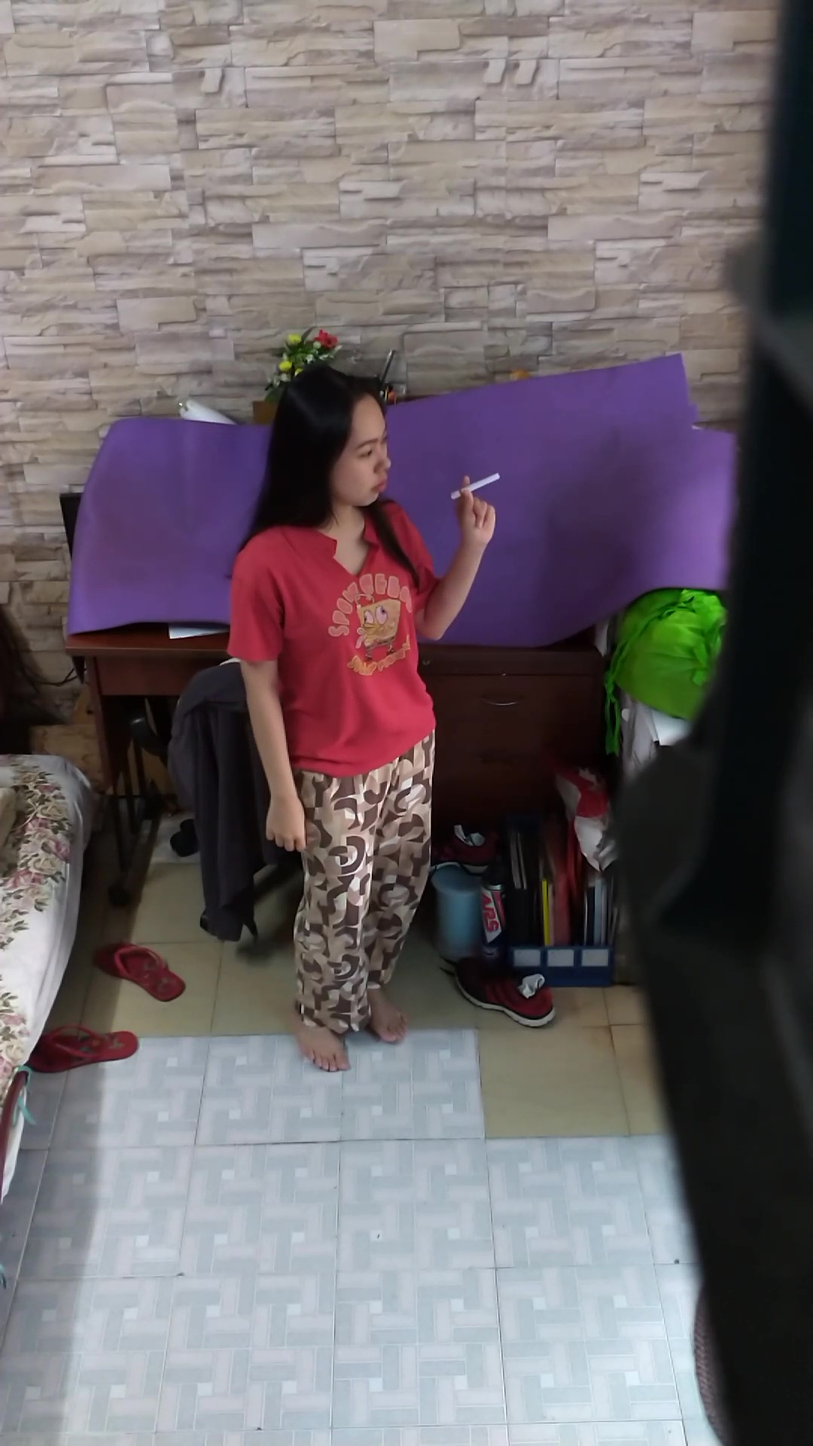cigarette: (469, 468, 504, 494)
person: (218, 363, 502, 1057)
